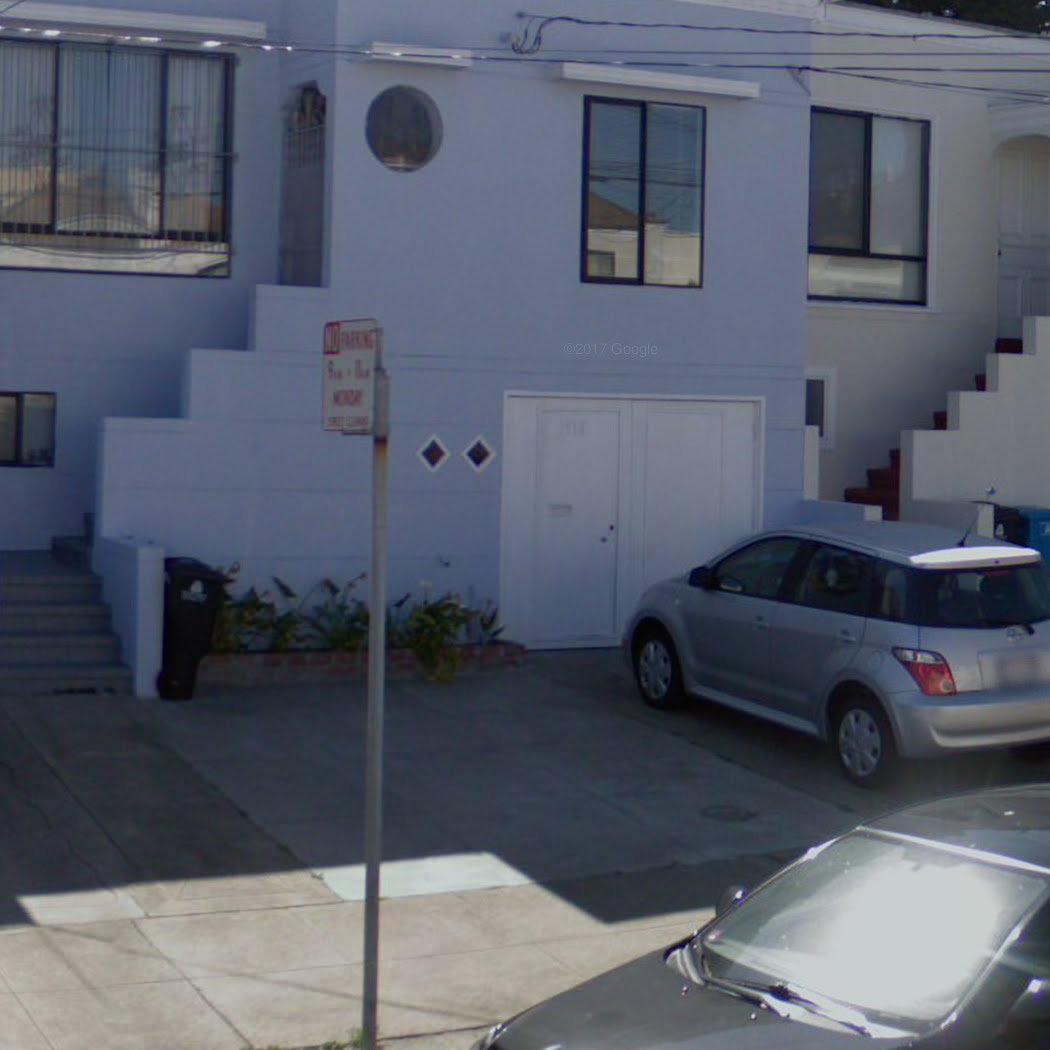No Parking: (320, 316, 382, 432)
